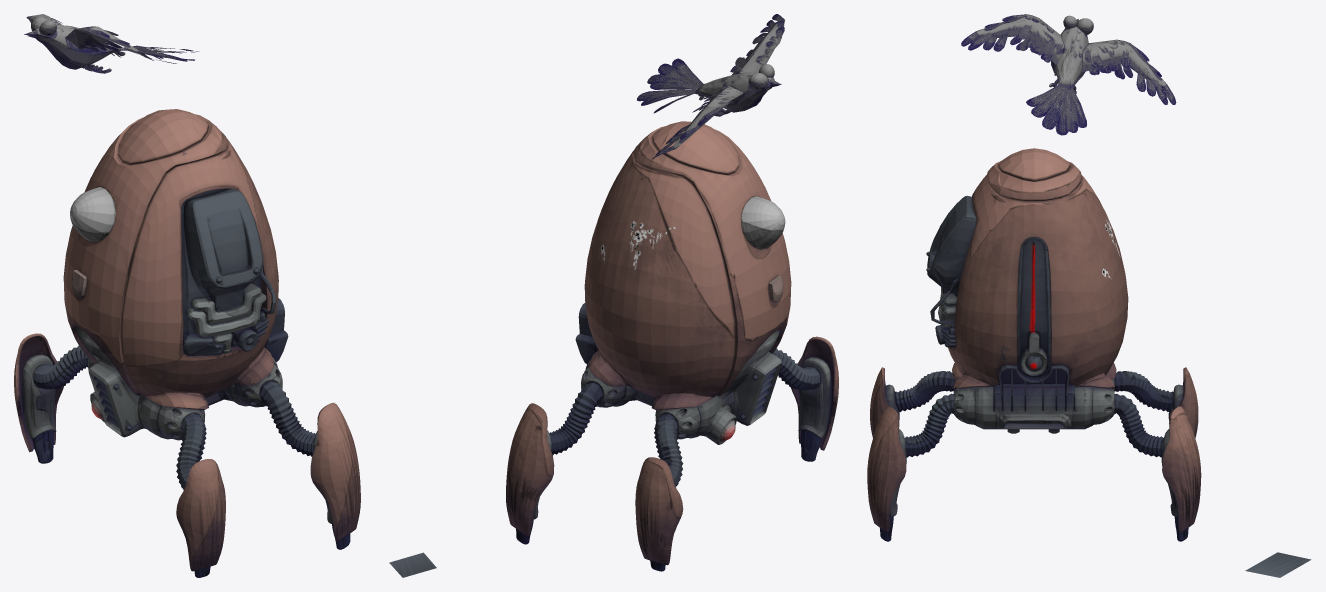
The model's file is robot.obj.
The picture shows the model from 3 angles, left to right: view 1: azimuth 30°, elevation 25°; view 2: azimuth 150°, elevation 25°; view 3: azimuth 270°, elevation 25°; orthographic projection. The views are drawn at different scales.
Visible parts, largest first — view 1: mech_0_mech, bird_0_bird; view 2: mech_0_mech, bird_0_bird, Plane.001_0_bird_shadow; view 3: mech_0_mech, bird_0_bird, Plane.001_0_bird_shadow.
Part boxes in pixels (bbox=[...]): mech_0_mech: bbox=[14, 109, 360, 577]; bird_0_bird: bbox=[24, 14, 198, 73]; mech_0_mech: bbox=[506, 121, 838, 571]; bird_0_bird: bbox=[637, 14, 785, 159]; Plane.001_0_bird_shadow: bbox=[389, 552, 436, 577]; mech_0_mech: bbox=[867, 148, 1201, 541]; bird_0_bird: bbox=[961, 14, 1176, 135]; Plane.001_0_bird_shadow: bbox=[1245, 552, 1311, 577].
Size of the model in its own units: 3.81 by 6.24 by 5.59.
